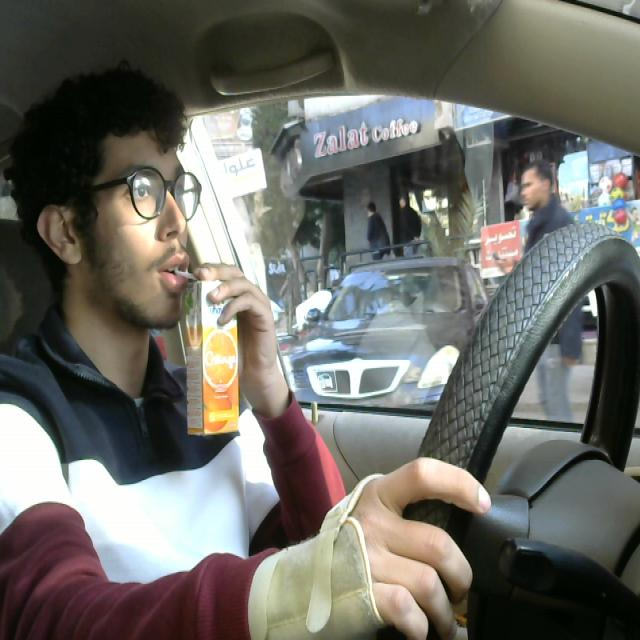drinking: (170, 268, 248, 434)
